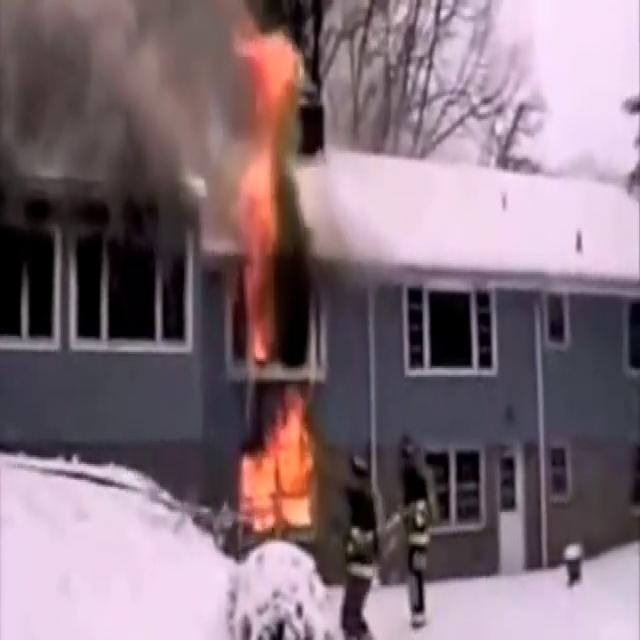Fire: (228, 24, 300, 367), (236, 384, 324, 540)
Smoke: (0, 1, 285, 193)
